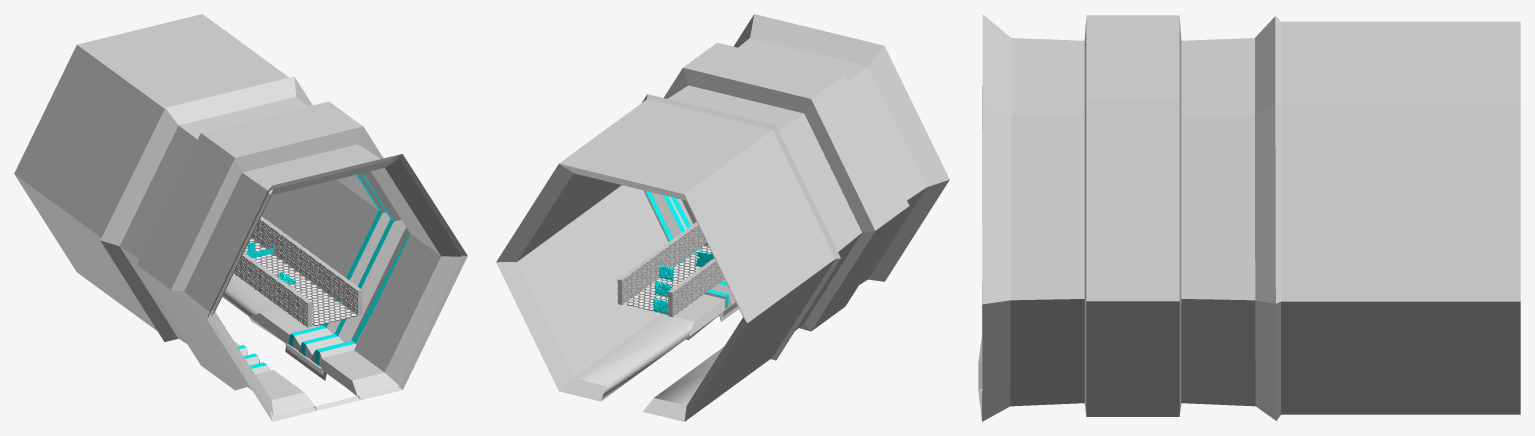
The model's file is Lab 2.fbx.
3 views of the same model, side by side, from view 1: azimuth 30°, elevation 25°; view 2: azimuth 150°, elevation 25°; view 3: azimuth 270°, elevation 25° (orthographic). The views are drawn at different scales.
Parts seen in each view (by area): view 1: Cylinder.002, brick_wall_without_proxy.053; view 2: Cylinder.002, brick_wall_without_proxy.053; view 3: Cylinder.002.
Part boxes in pixels (x1,y1,x2,y2): Cylinder.002: (14,14,467,421); brick_wall_without_proxy.053: (234,216,362,327); Cylinder.002: (496,14,949,421); brick_wall_without_proxy.053: (617,222,724,317); Cylinder.002: (978,14,1520,421).
Size of the model in its own units: 8499 by 7564 by 11255.
